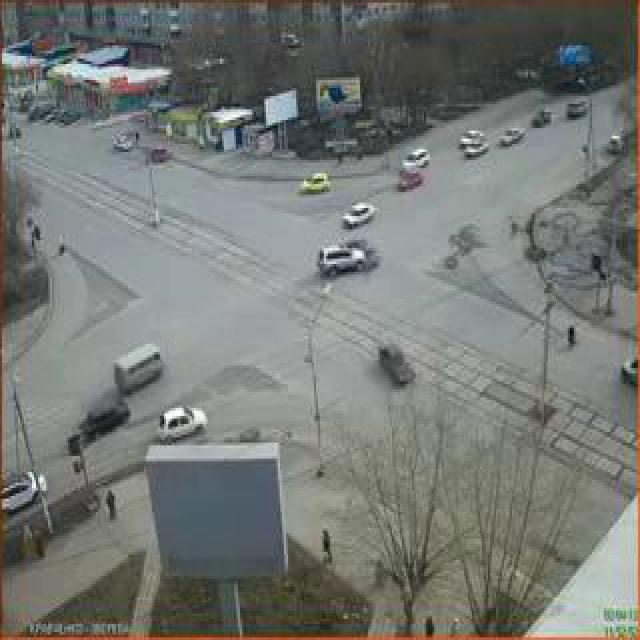road accidents: (268, 76, 450, 510)
